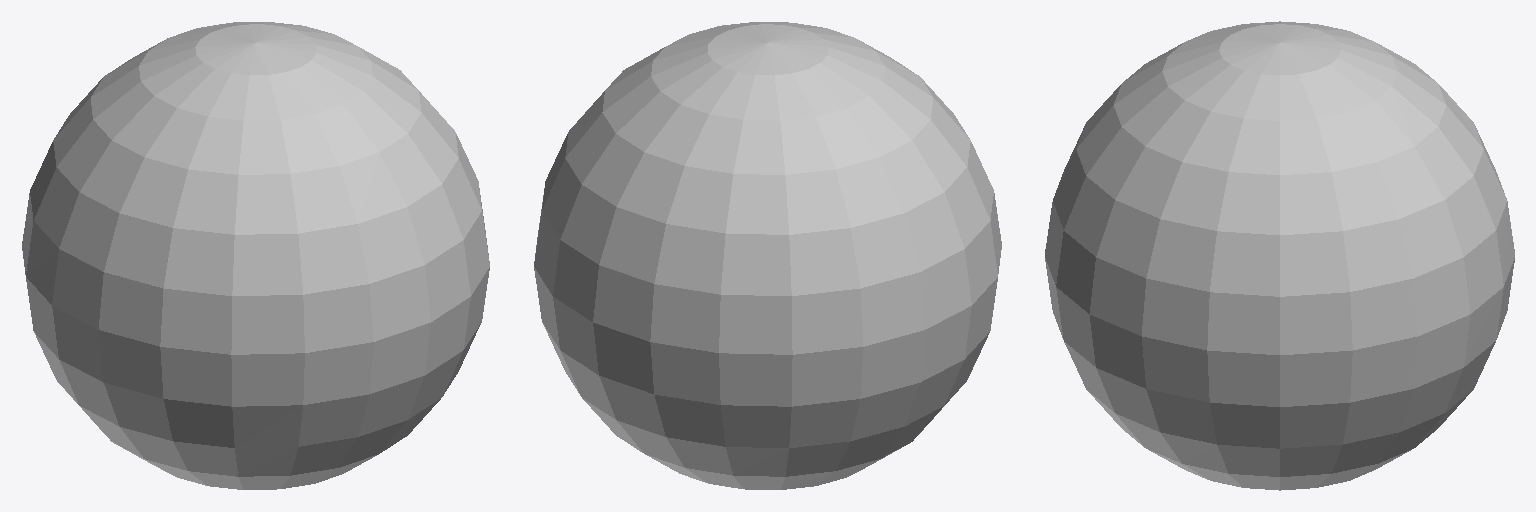
Rendered from thumbpad_touch.obj.
3 renders of one model, left to right at view 1: azimuth 30°, elevation 25°; view 2: azimuth 150°, elevation 25°; view 3: azimuth 270°, elevation 25°, orthographic.
Visible parts, largest first — view 1: trackpad_touch; view 2: trackpad_touch; view 3: trackpad_touch.
Part boxes in pixels (x1,y1,x2,y2): trackpad_touch: (22, 22, 489, 489); trackpad_touch: (534, 22, 1001, 489); trackpad_touch: (1045, 21, 1514, 490).
Size of the model in its own units: 0.0045 by 0.0045 by 0.0045.